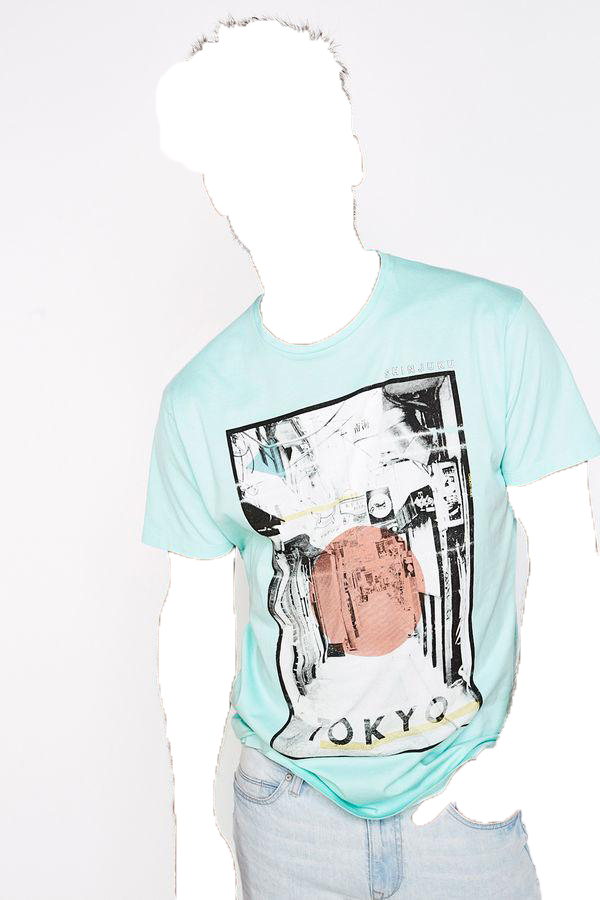teeshirt: (130, 251, 600, 811)
